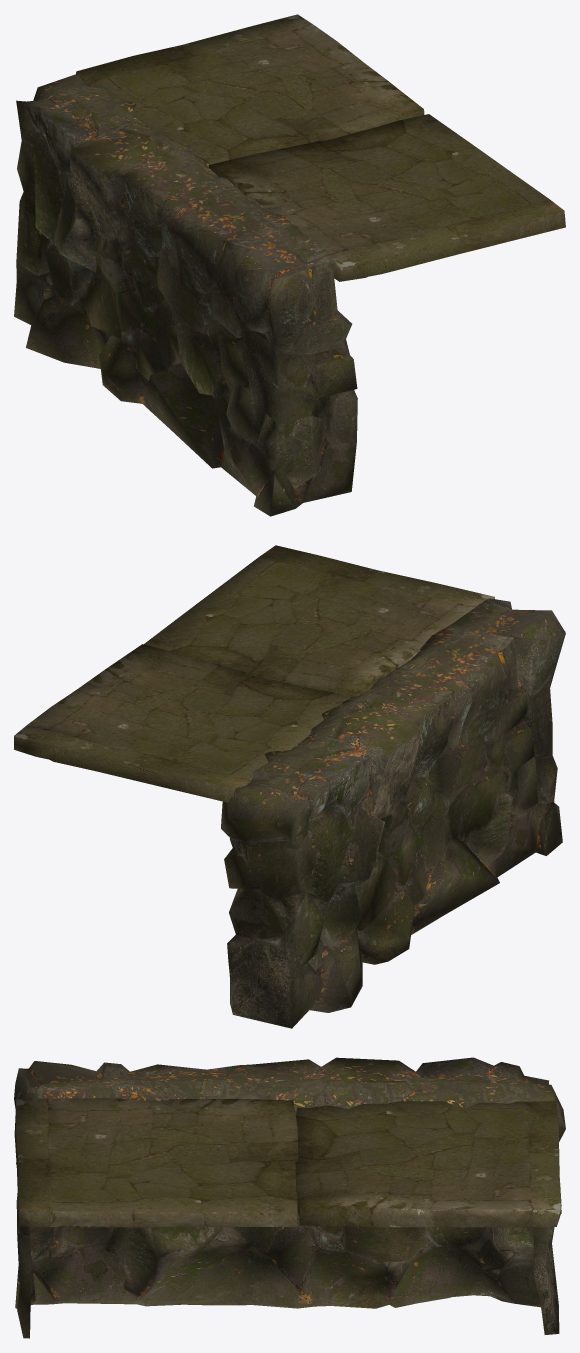
Rendered from wall_mossy_Lod3.fbx.
3 views of the same model, one above another, from view 1: azimuth 30°, elevation 25°; view 2: azimuth 150°, elevation 25°; view 3: azimuth 270°, elevation 25° (orthographic). The views are drawn at different scales.
Parts seen in each view (by area): view 1: Aset_historical_feudal_japan_L_ulldfgb_LOD0; view 2: Aset_historical_feudal_japan_L_ulldfgb_LOD0; view 3: Aset_historical_feudal_japan_L_ulldfgb_LOD0.
Part boxes in pixels (x1,y1,x2,y2): Aset_historical_feudal_japan_L_ulldfgb_LOD0: (14, 14, 565, 516); Aset_historical_feudal_japan_L_ulldfgb_LOD0: (14, 545, 565, 1028); Aset_historical_feudal_japan_L_ulldfgb_LOD0: (14, 1057, 565, 1338).
Size of the model in its own units: 110 by 82.66 by 167.
